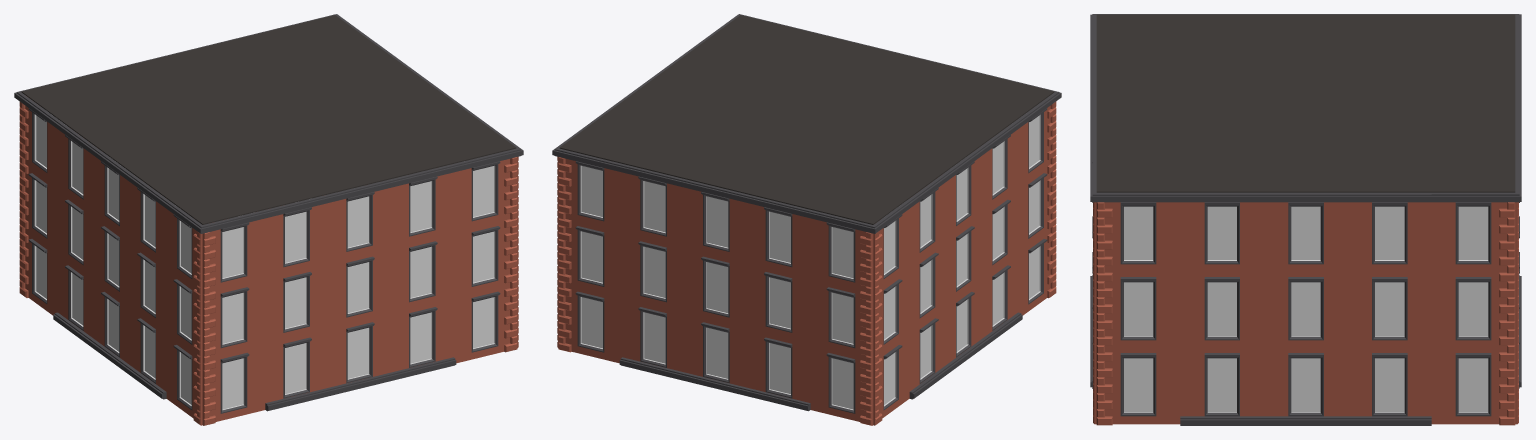
Rendered from Building 1.fbx.
3 views of the same model, side by side, from view 1: azimuth 30°, elevation 25°; view 2: azimuth 150°, elevation 25°; view 3: azimuth 270°, elevation 25° (orthographic). The views are drawn at different scales.
Parts seen in each view (by area): view 1: Plane.043, Plane.063, Plane.051, Plane.052, Plane.058, Plane.057, Plane.054, Plane.061, Plane.055, Plane.060, Plane.062, Plane.049 (+19 smaller); view 2: Plane.043, Plane.016, Plane.030, Plane.025, Plane.024, Plane.019, Plane.027, Plane.018, Plane.022, Plane.021, Plane.017, Plane.028 (+19 smaller); view 3: Plane.043, Plane.001, Plane.013, Plane.010, Plane.004, Plane.007, Plane.012, Plane.003, Plane.056, Plane.006, Plane.009, Plane.011 (+6 smaller).
Boxes of the visible parts, x1,y1,x2,y2 form: Plane.043: (21, 15, 516, 224); Plane.063: (453, 148, 518, 232); Plane.051: (202, 210, 268, 294); Plane.052: (265, 194, 330, 278); Plane.058: (391, 164, 456, 247); Plane.057: (328, 179, 393, 263); Plane.054: (265, 329, 330, 411); Plane.061: (453, 280, 517, 363); Plane.055: (328, 314, 393, 395); Plane.060: (391, 298, 456, 380); Plane.062: (453, 218, 517, 298); Plane.049: (202, 344, 265, 425); Plane.043: (559, 15, 1054, 224); Plane.016: (557, 148, 622, 232); Plane.030: (808, 210, 873, 294); Plane.025: (745, 194, 810, 278); Plane.024: (682, 179, 747, 263); Plane.019: (619, 164, 684, 247); Plane.027: (745, 329, 810, 411); Plane.018: (558, 280, 622, 363); Plane.022: (682, 314, 747, 395); Plane.021: (619, 298, 684, 380); Plane.017: (558, 218, 622, 298); Plane.028: (810, 344, 873, 425); Plane.043: (1096, 14, 1515, 192); Plane.001: (1431, 192, 1521, 273); Plane.013: (1090, 192, 1180, 273); Plane.010: (1180, 192, 1264, 272); Plane.004: (1348, 192, 1431, 272); Plane.007: (1264, 192, 1347, 272); Plane.012: (1180, 348, 1264, 425); Plane.003: (1431, 345, 1515, 425); Plane.056: (1096, 345, 1180, 425); Plane.006: (1348, 348, 1431, 425); Plane.009: (1264, 348, 1347, 425); Plane.011: (1180, 272, 1264, 348).
Bounding box in the file's own units: 2060 × 1226 × 2060.
